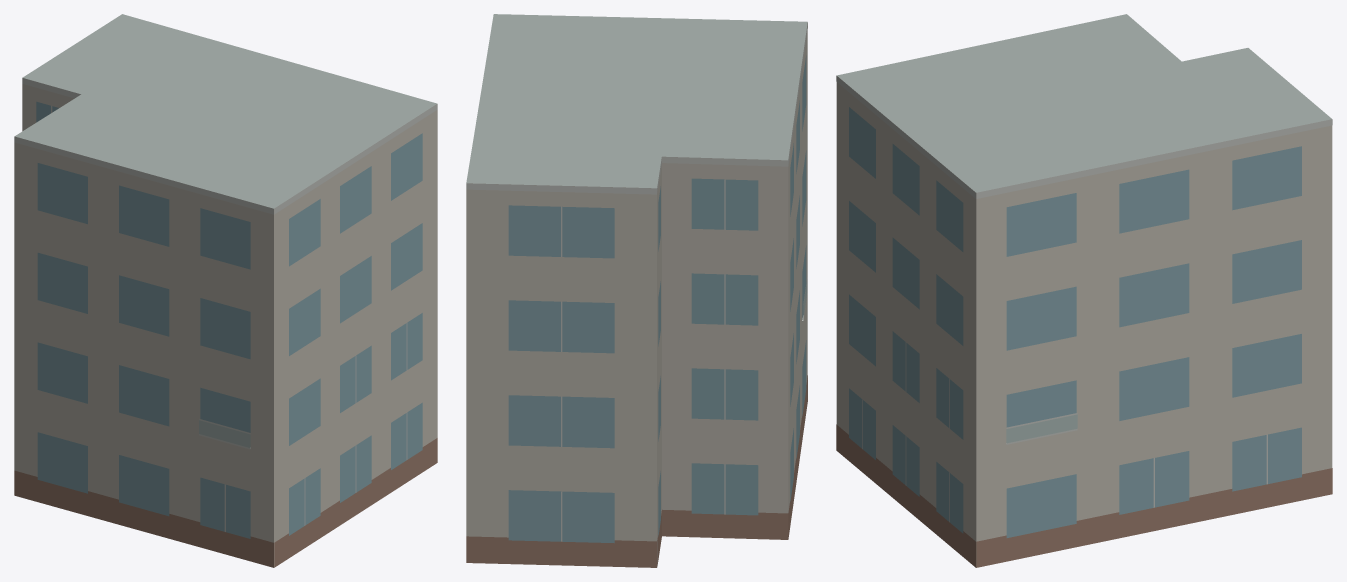
File: survey-upis-32840140.glb
3 views of the same model, side by side, from view 1: azimuth 30°, elevation 25°; view 2: azimuth 150°, elevation 25°; view 3: azimuth 270°, elevation 25° (orthographic). The views are drawn at different scales.
Visible parts, largest first — view 1: survey-upis-32840140.tmp; view 2: survey-upis-32840140.tmp; view 3: survey-upis-32840140.tmp.
Part boxes in pixels (x1,y1,x2,y2): survey-upis-32840140.tmp: (14,14,437,567); survey-upis-32840140.tmp: (466,14,807,567); survey-upis-32840140.tmp: (836,14,1332,567).
Bounding box in the file's own units: 14.9 × 14.56 × 17.46.
